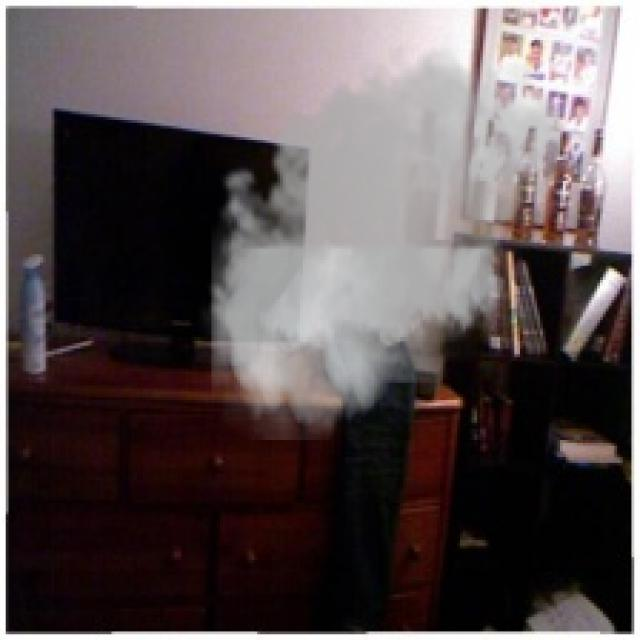smoke: (197, 31, 574, 440)
